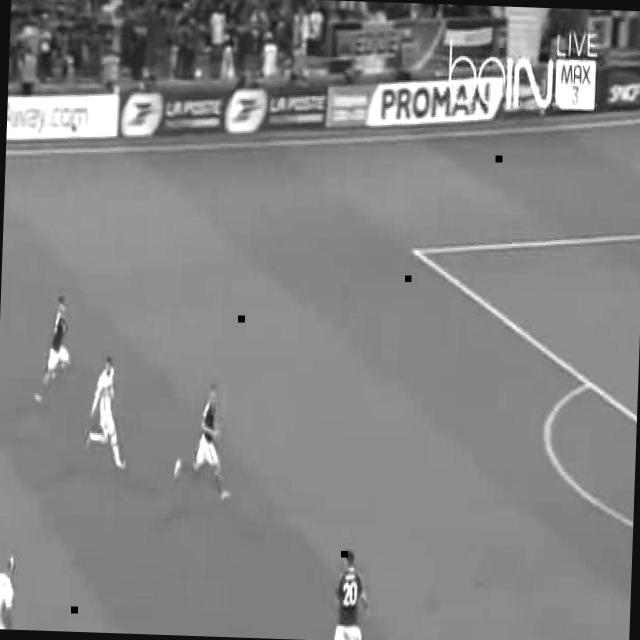player-white: (174, 385, 234, 499), (316, 546, 368, 640), (85, 358, 129, 468), (34, 294, 72, 404), (0, 550, 16, 629)
